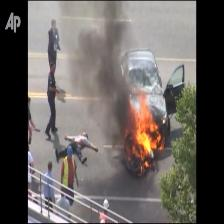fire: (120, 91, 174, 184)
smoke: (59, 0, 136, 129)
